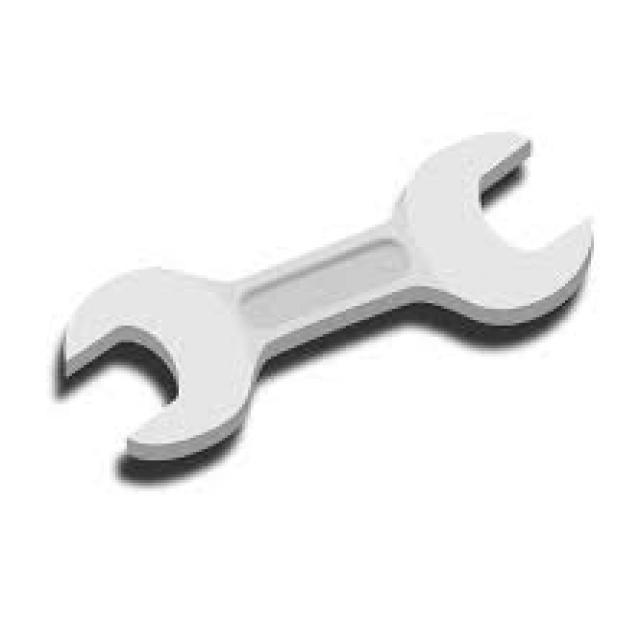wrench: (22, 110, 614, 494)
